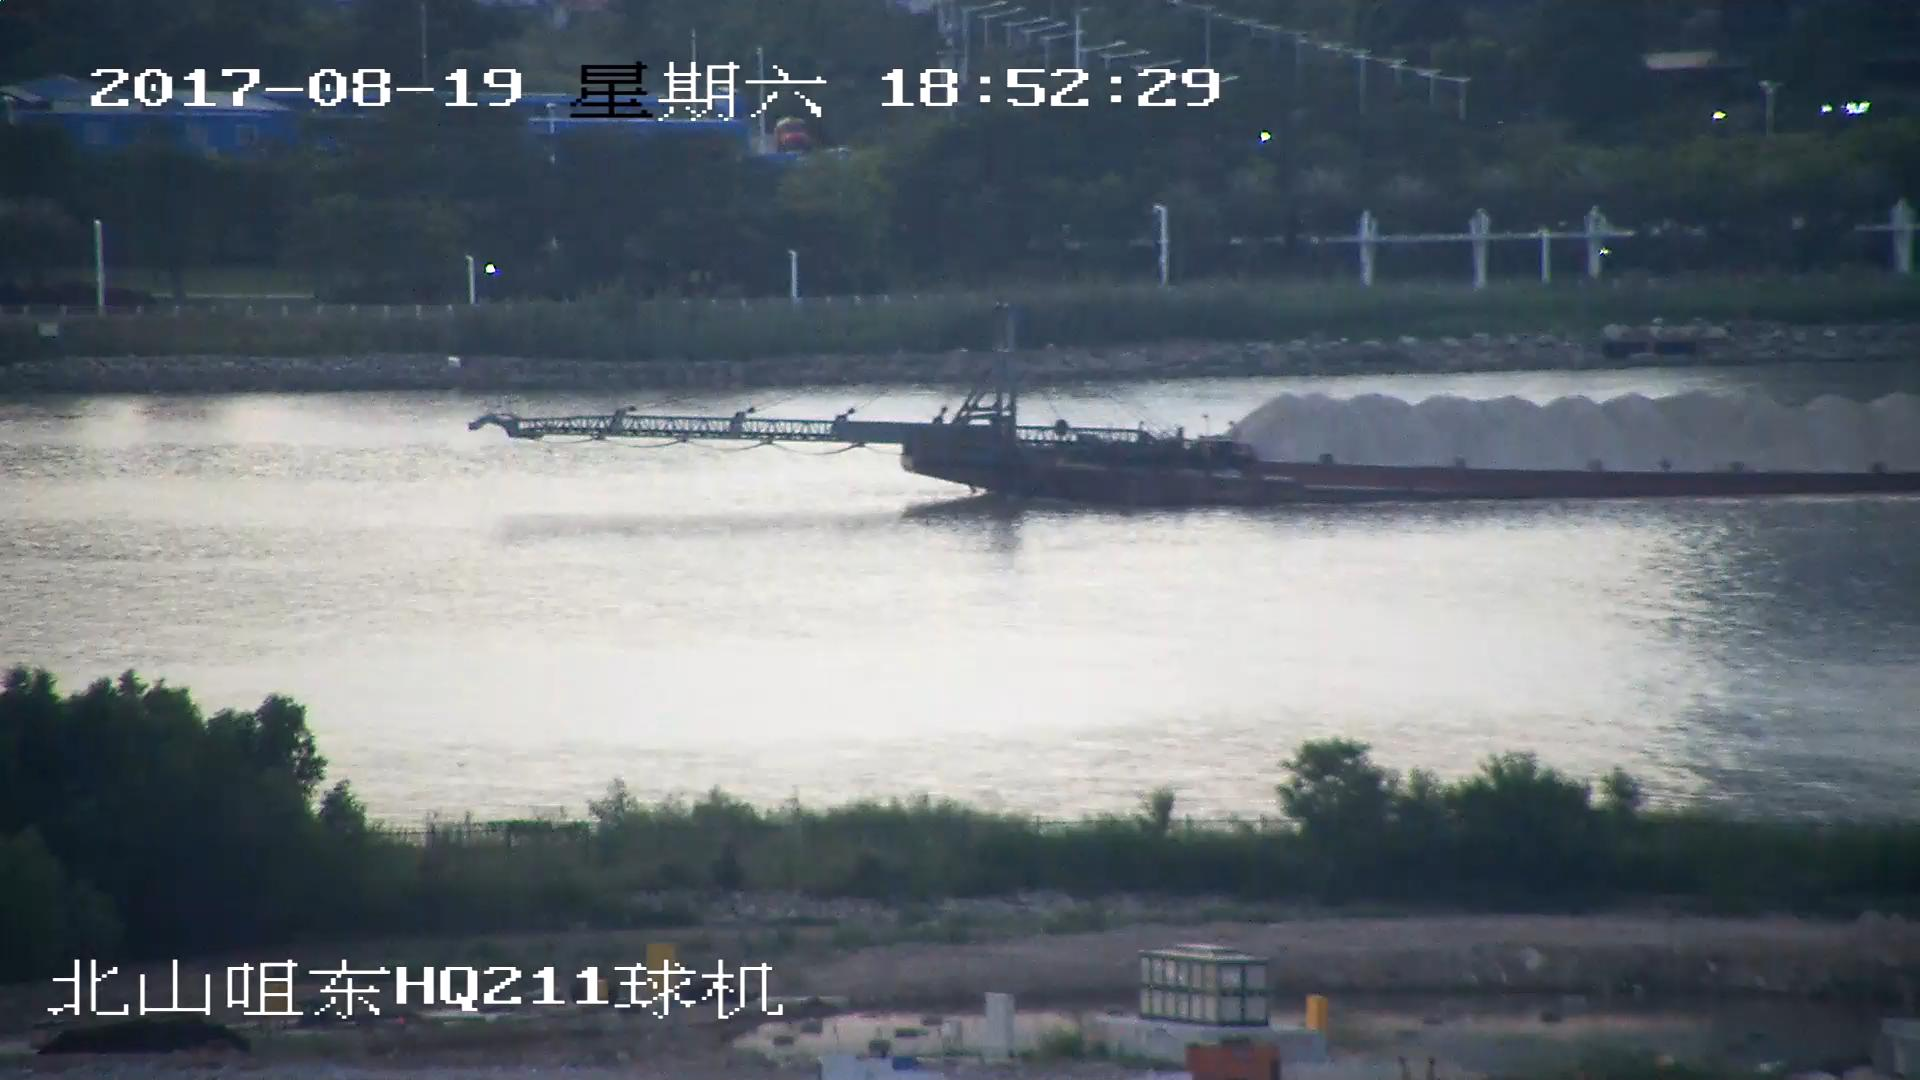ore carrier: (464, 302, 1920, 503)
